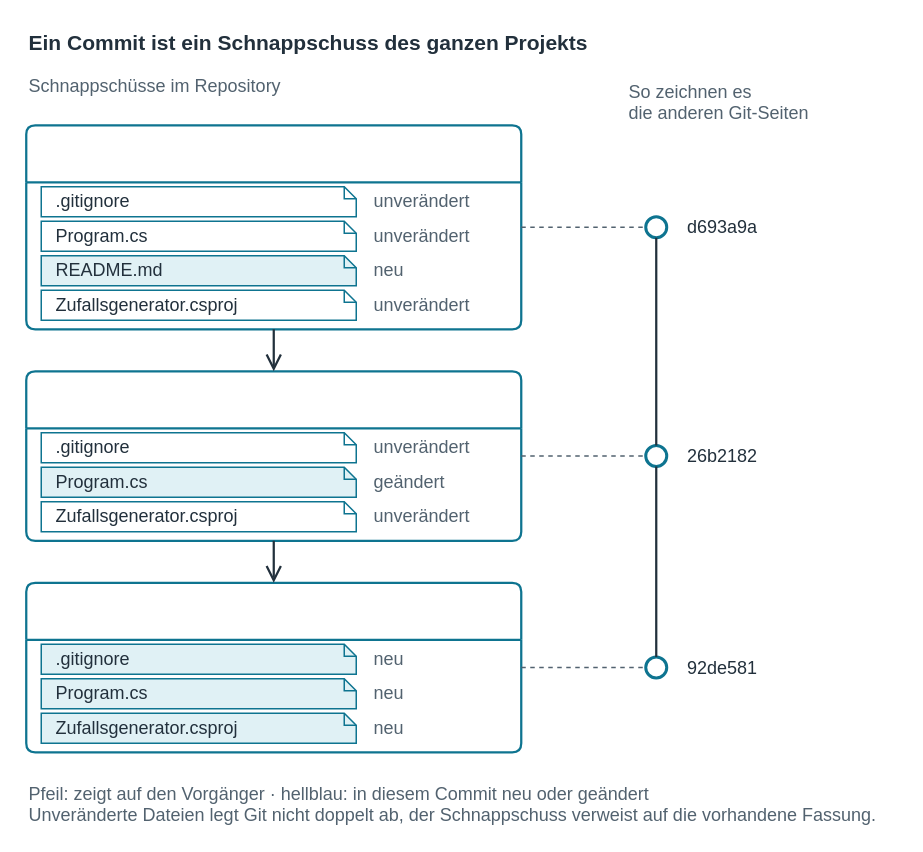
The diagram is 923 pixels wide and 852 high, and some of its shapes have lost their labels. Each missing label, with the box of its shape:
26b2182 · Erika Anzahl der Zahlen abfragen: (24, 369, 522, 541)
92de581 · Max Projekt unter Versionsverwaltung gestellt: (24, 581, 522, 753)
d693a9a · Erika README angelegt: (24, 123, 522, 330)
